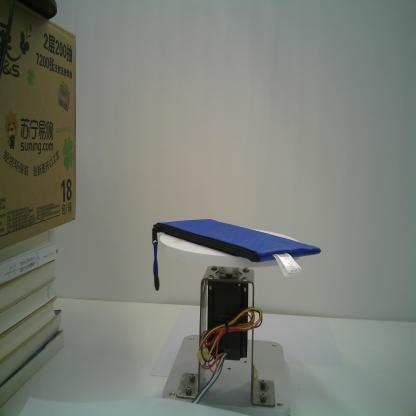Stationery: (148, 216, 321, 290)
